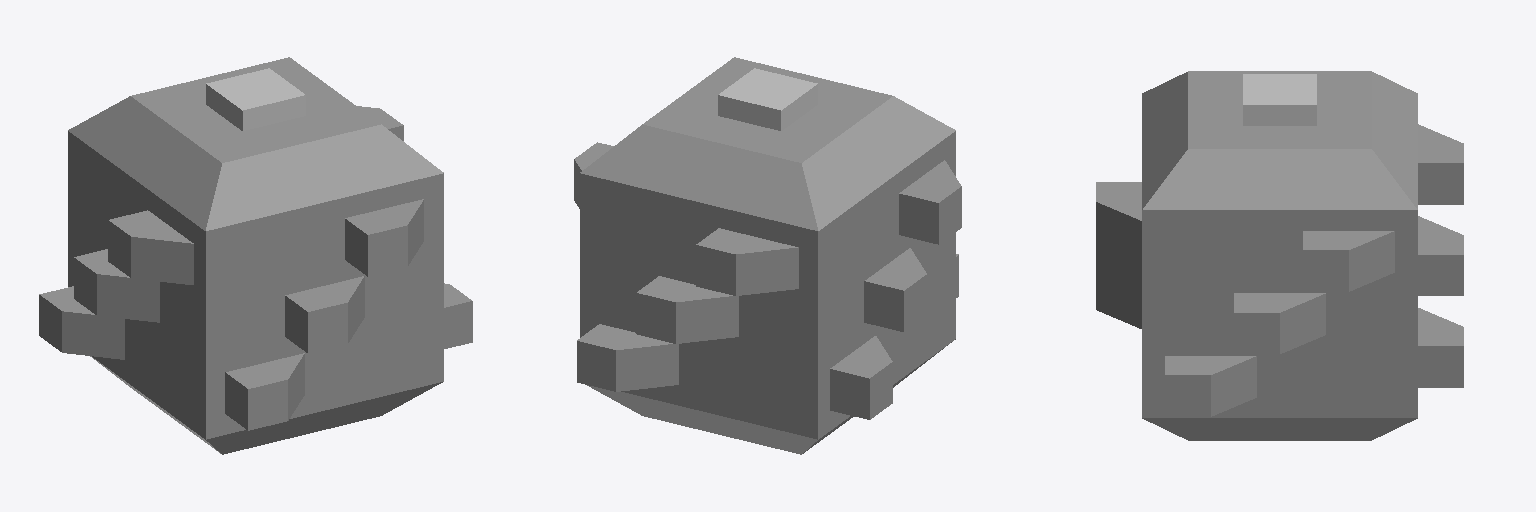
The model's file is whirligig_joined.obj.
3 renders of one model, left to right at view 1: azimuth 30°, elevation 25°; view 2: azimuth 150°, elevation 25°; view 3: azimuth 270°, elevation 25°, orthographic.
Size of the model in its own units: 1 by 1 by 1.